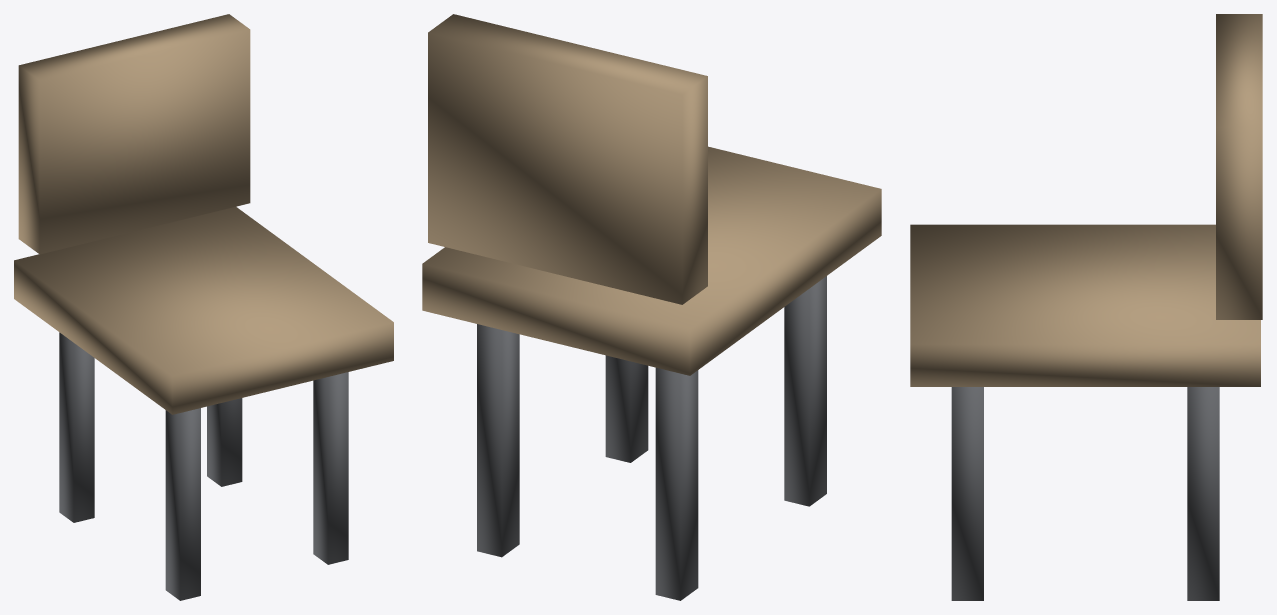
Rendered from school_chair__deep.glb.
3 views of the same model, side by side, from view 1: azimuth 30°, elevation 25°; view 2: azimuth 150°, elevation 25°; view 3: azimuth 270°, elevation 25° (orthographic). The views are drawn at different scales.
Parts seen in each view (by area): view 1: world; view 2: world; view 3: world.
Part boxes in pixels (left/top/right/bottom): world: left=14, top=14, right=393, bottom=600; world: left=422, top=14, right=881, bottom=600; world: left=910, top=14, right=1262, bottom=600.
Size of the model in its own units: 0.4803 by 0.9072 by 0.5981.
